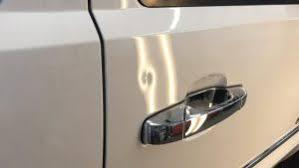doorouter-dent: (104, 0, 298, 157)
